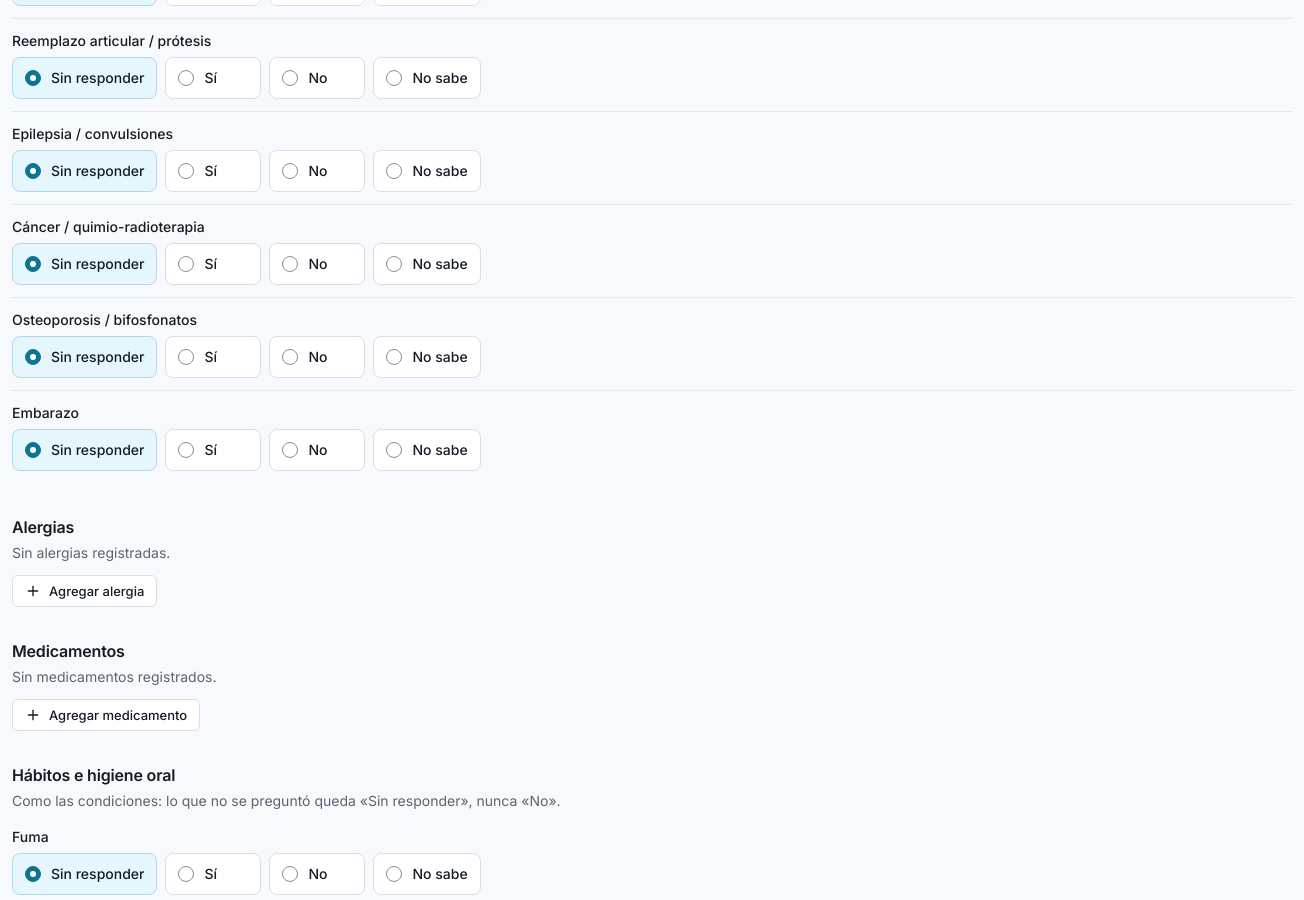
marca embarazo y lo refleja en el value del padre, mostrando semanas
(page scrolled)
Click the radio button labelled "Sí" below "Embarazo" at (186, 450), box [178, 442, 194, 458]
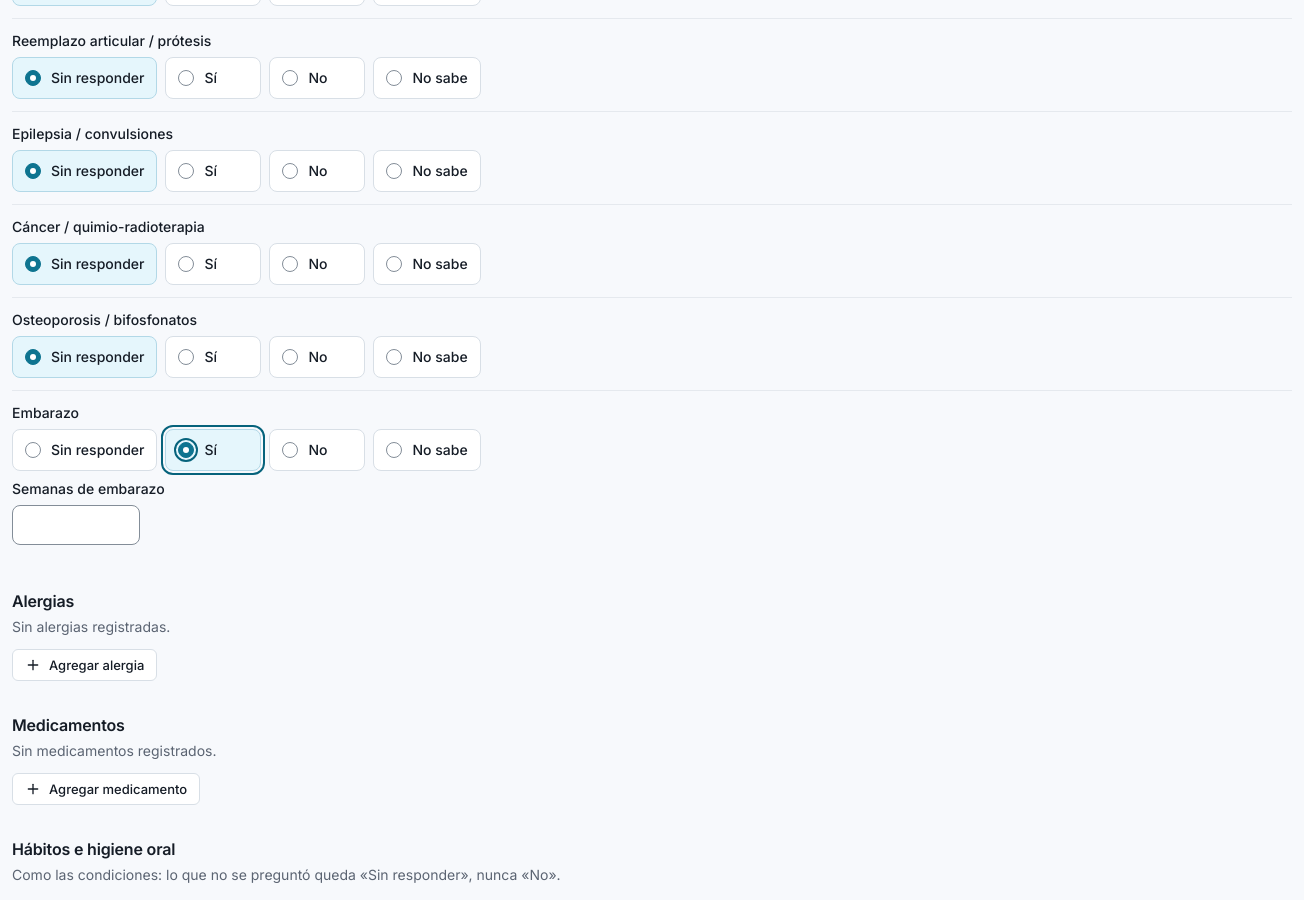
Type "12" into the number field labelled "Semanas de embarazo" at (76, 525), box [12, 505, 140, 545]
(page scrolled)
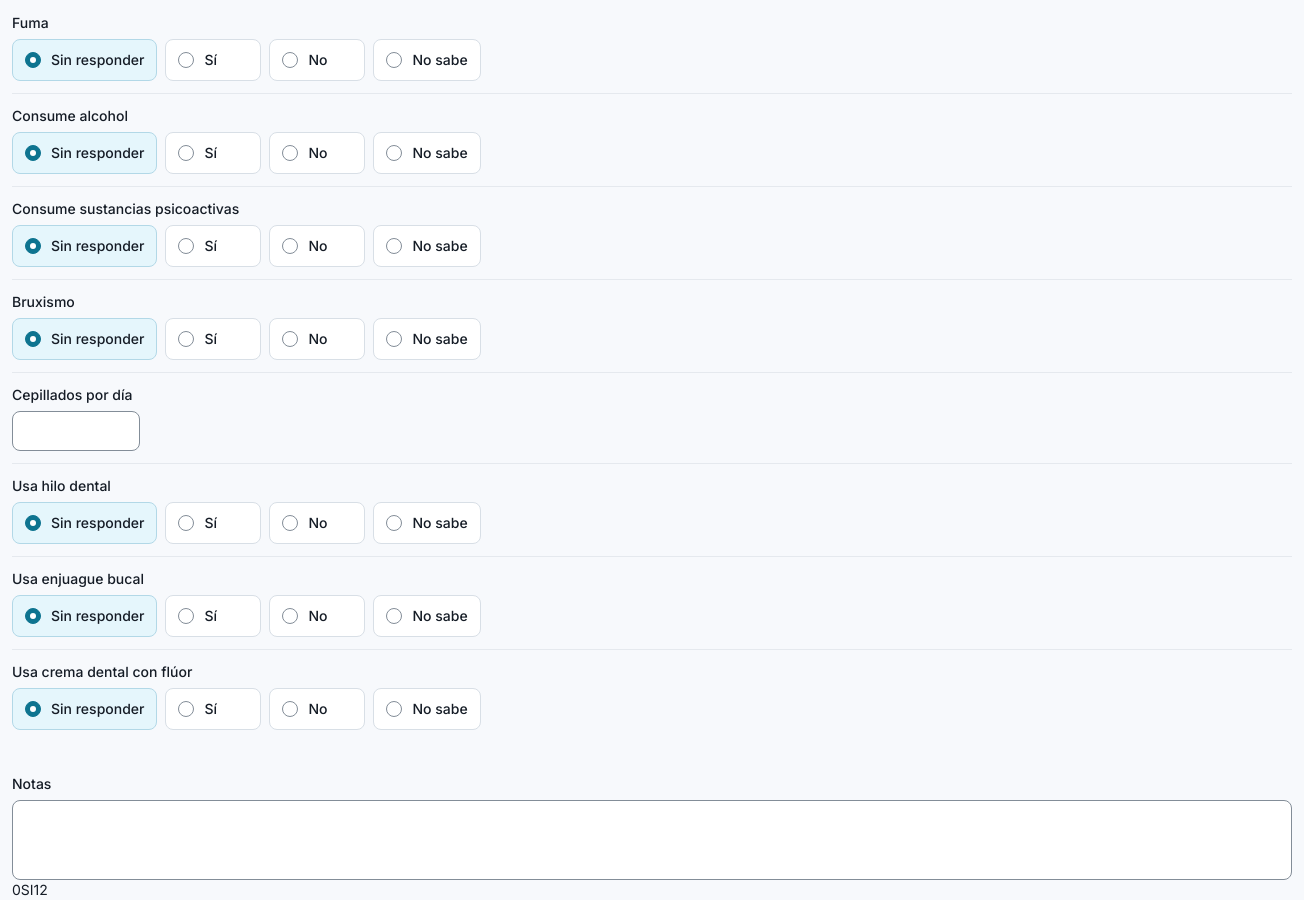
Check: the text with test id "semanas" reads "12", box [34, 881, 48, 898]
